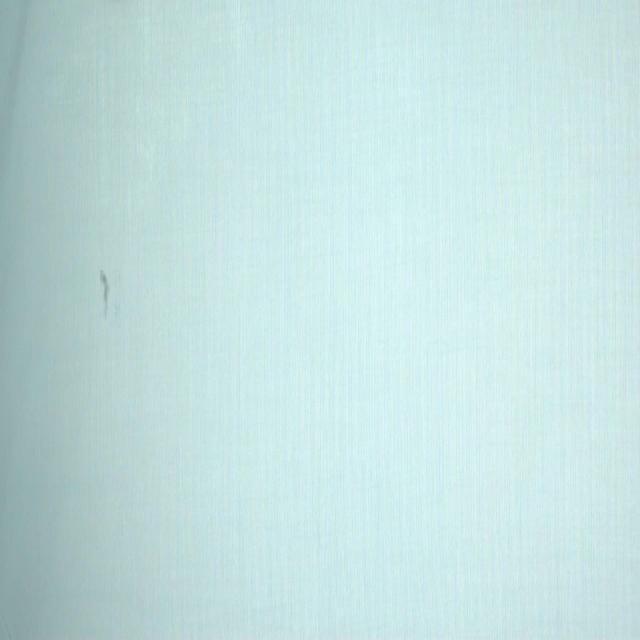dirty: (100, 268, 110, 324)
